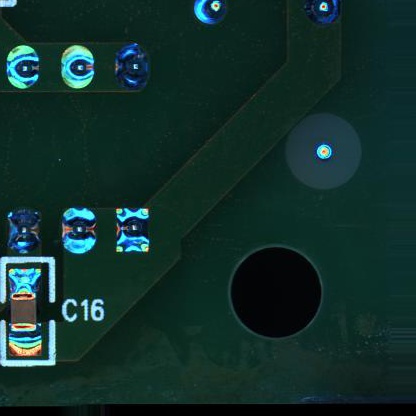spot: (62, 205, 99, 256), (114, 205, 151, 255), (7, 207, 43, 256), (114, 40, 147, 92), (6, 43, 42, 90), (62, 43, 95, 91)
